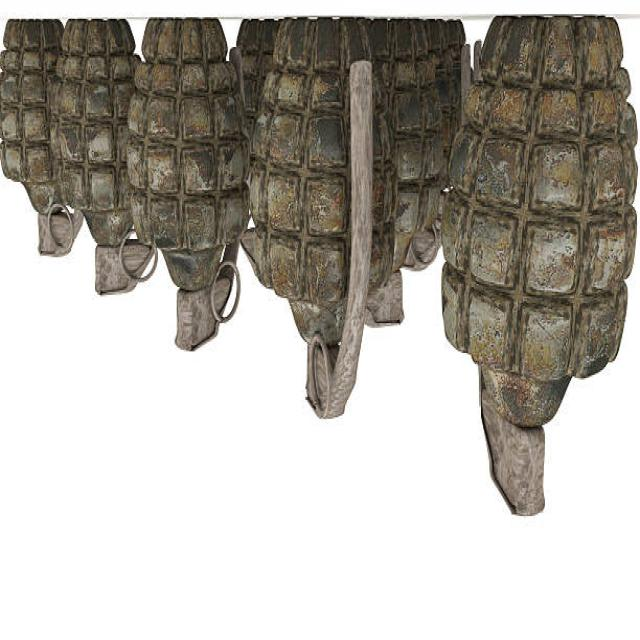grenade: (441, 13, 640, 526), (241, 16, 392, 427), (131, 11, 249, 353), (57, 19, 154, 304)
